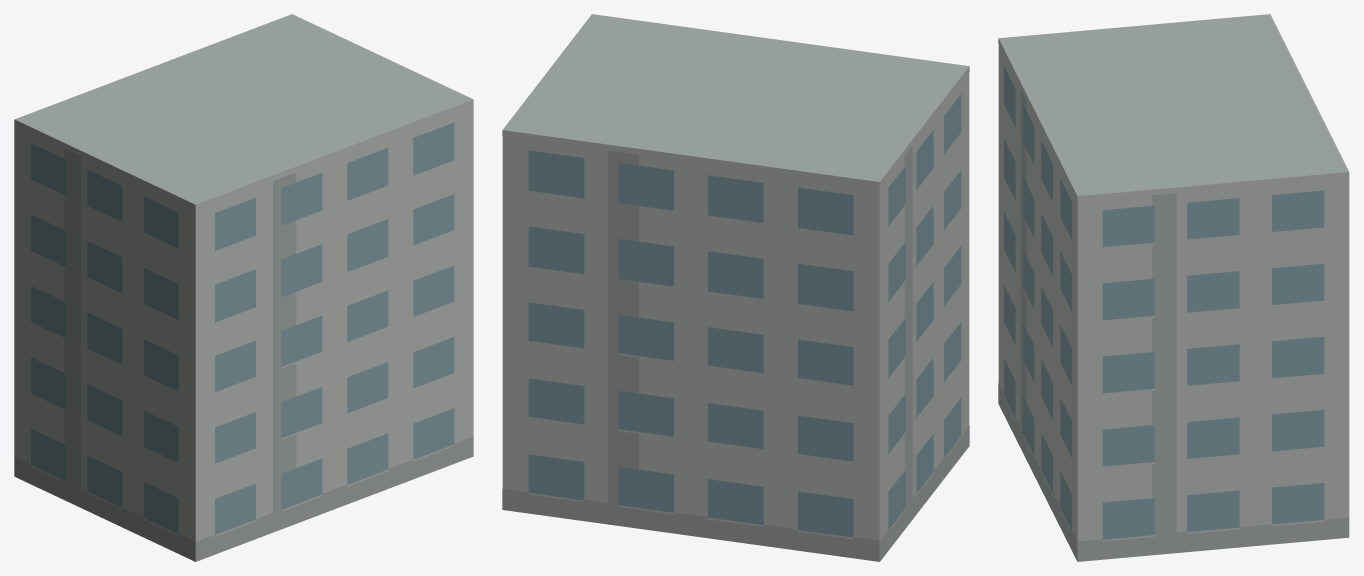
File: residential-eb075729-654d-4139-ab04-cf5c72f13f10.glb
The picture shows the model from 3 angles, left to right: view 1: azimuth 30°, elevation 25°; view 2: azimuth 150°, elevation 25°; view 3: azimuth 270°, elevation 25°; orthographic projection. The views are drawn at different scales.
Visible parts, largest first — view 1: residential-eb075729-654d-4139-ab04-cf5c72f13f10.tmp; view 2: residential-eb075729-654d-4139-ab04-cf5c72f13f10.tmp; view 3: residential-eb075729-654d-4139-ab04-cf5c72f13f10.tmp.
Boxes of the visible parts, bbox=[...] form: residential-eb075729-654d-4139-ab04-cf5c72f13f10.tmp: bbox=[14, 14, 473, 561]; residential-eb075729-654d-4139-ab04-cf5c72f13f10.tmp: bbox=[502, 14, 969, 561]; residential-eb075729-654d-4139-ab04-cf5c72f13f10.tmp: bbox=[998, 14, 1349, 561].
Bounding box in the file's own units: 16.31 × 15.25 × 13.27.
